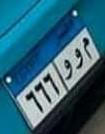6: (4, 89, 50, 102), (34, 79, 55, 100), (34, 71, 66, 84)
م: (84, 29, 92, 74)
و: (74, 42, 83, 76), (66, 54, 73, 87)
